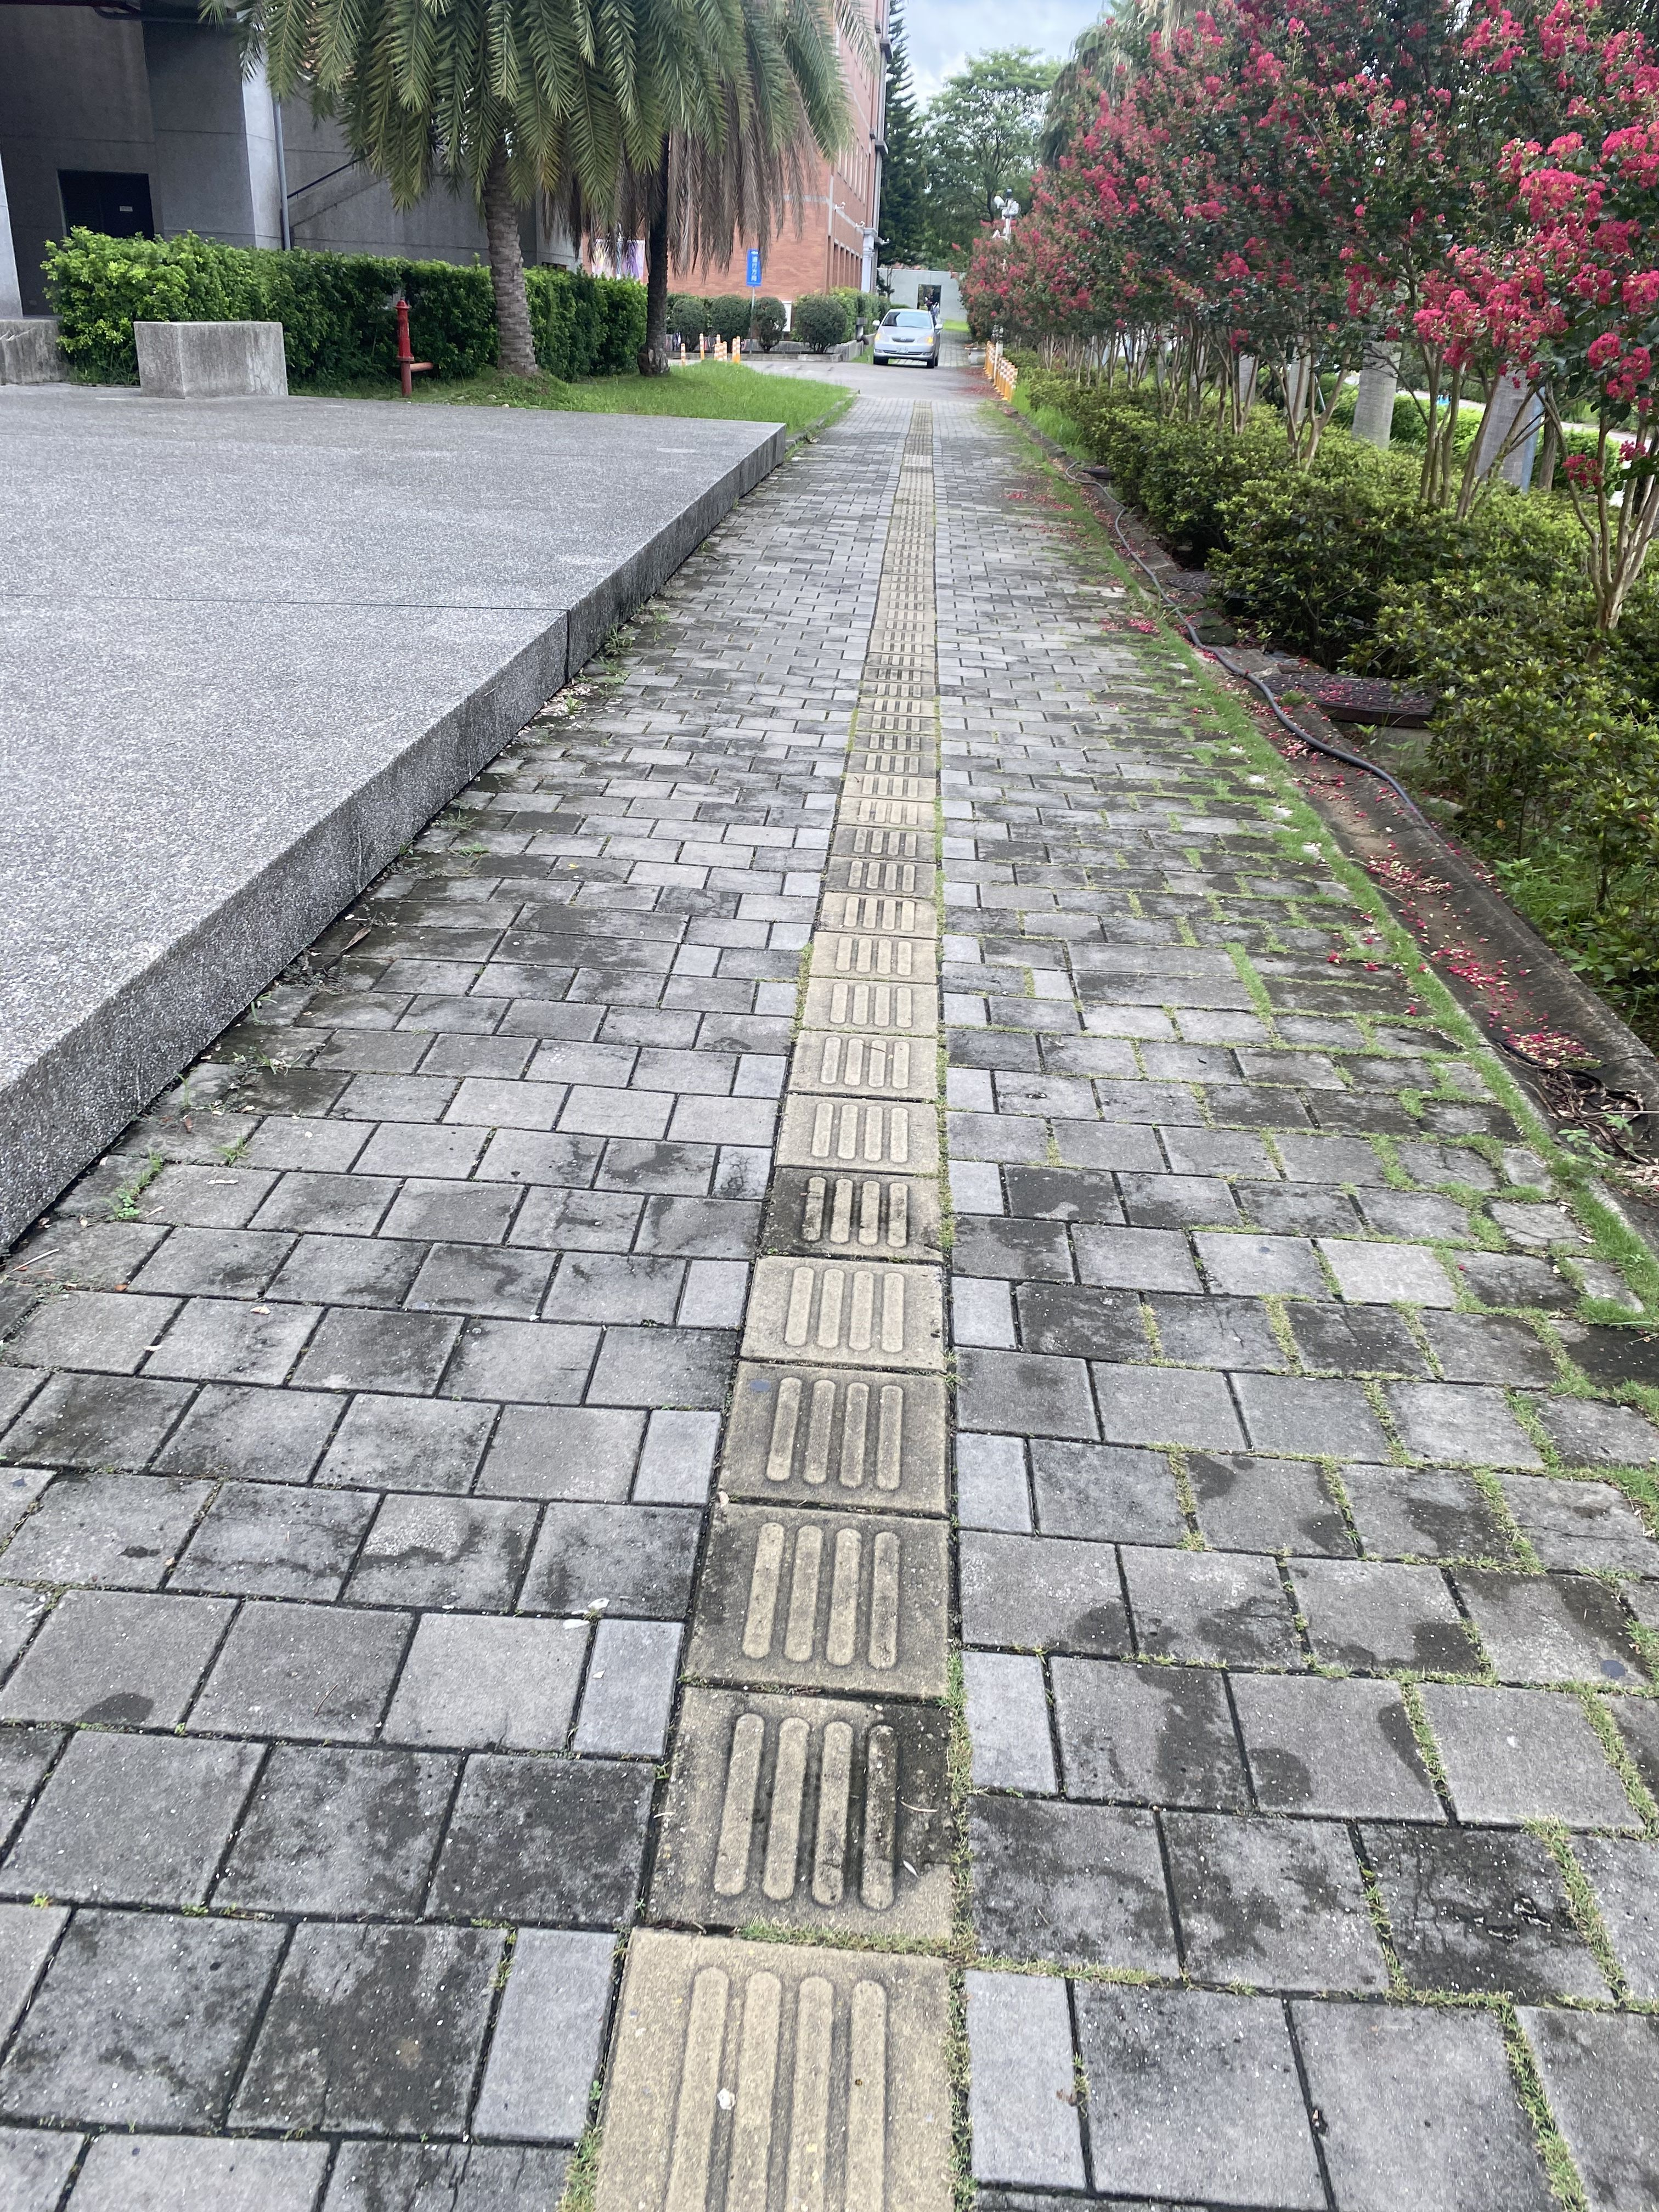0: (10, 597, 1659, 2212)
sidewalk: (742, 416, 1312, 1630)
